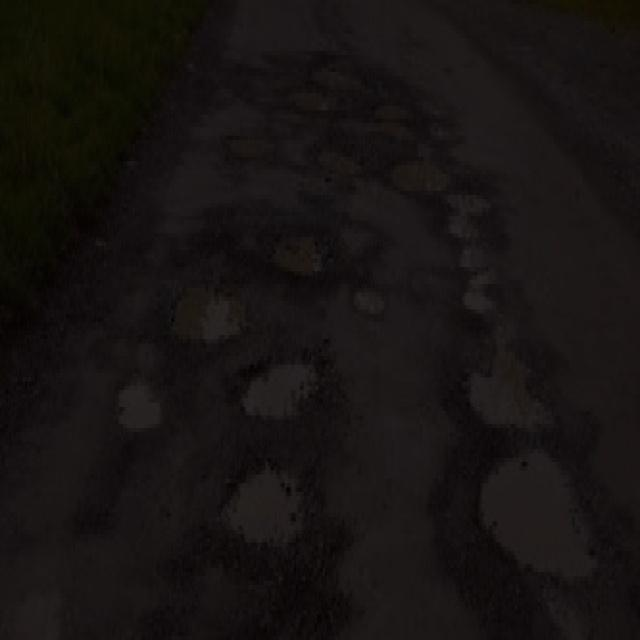Pothole: (446, 186, 565, 430), (462, 436, 614, 590), (210, 451, 318, 554), (222, 341, 334, 424), (333, 206, 402, 320), (163, 274, 251, 347), (244, 211, 321, 280), (378, 136, 460, 198), (106, 369, 170, 437), (314, 54, 368, 108), (218, 120, 272, 170), (272, 86, 344, 119), (311, 136, 361, 180), (360, 98, 427, 125)
